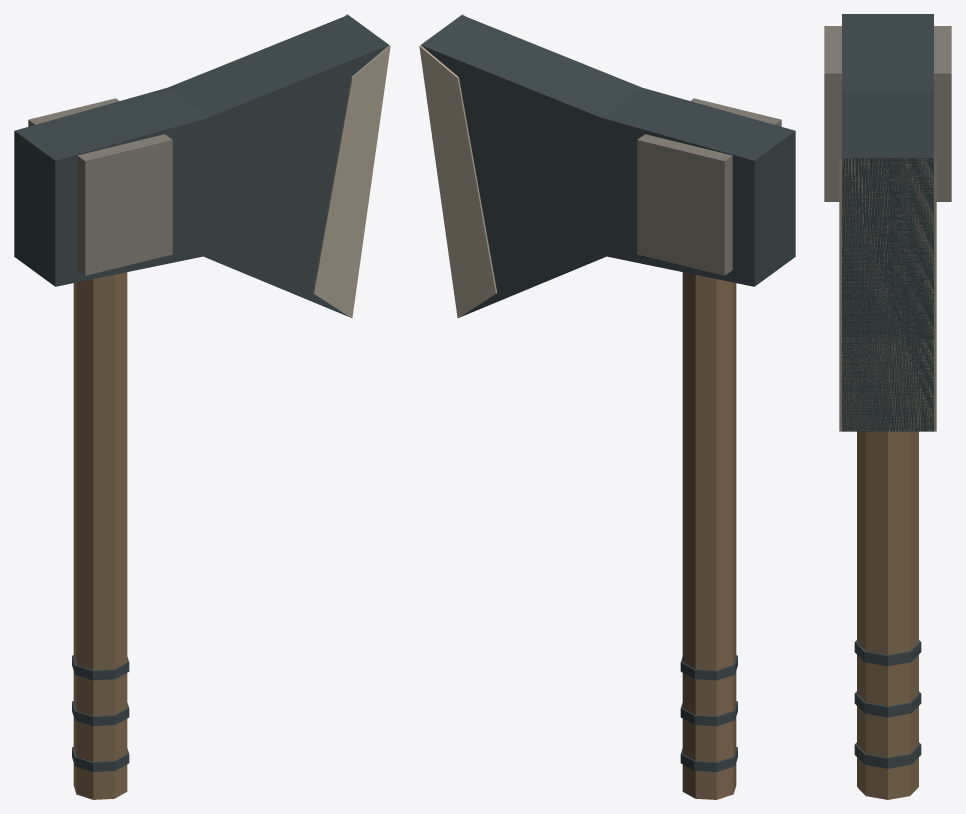
File: Equip_AxeWood.fbx
3 renders of one model, left to right at view 1: azimuth 30°, elevation 25°; view 2: azimuth 150°, elevation 25°; view 3: azimuth 270°, elevation 25°, orthographic. The views are drawn at different scales.
Visible parts, largest first — view 1: Equip_AxeWood; view 2: Equip_AxeWood; view 3: Equip_AxeWood.
Part boxes in pixels (x1,y1,x2,y2): Equip_AxeWood: [14, 14, 390, 799]; Equip_AxeWood: [419, 14, 795, 799]; Equip_AxeWood: [824, 14, 951, 799].
Size of the model in its own units: 0.61 by 1.21 by 0.18.
